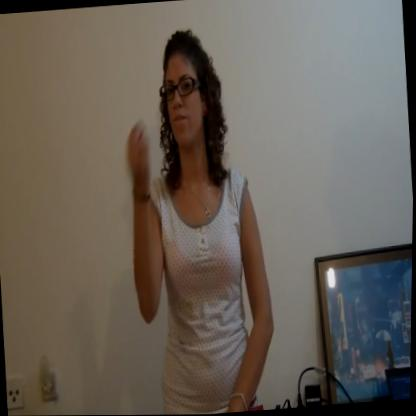Food: (113, 23, 286, 415)
